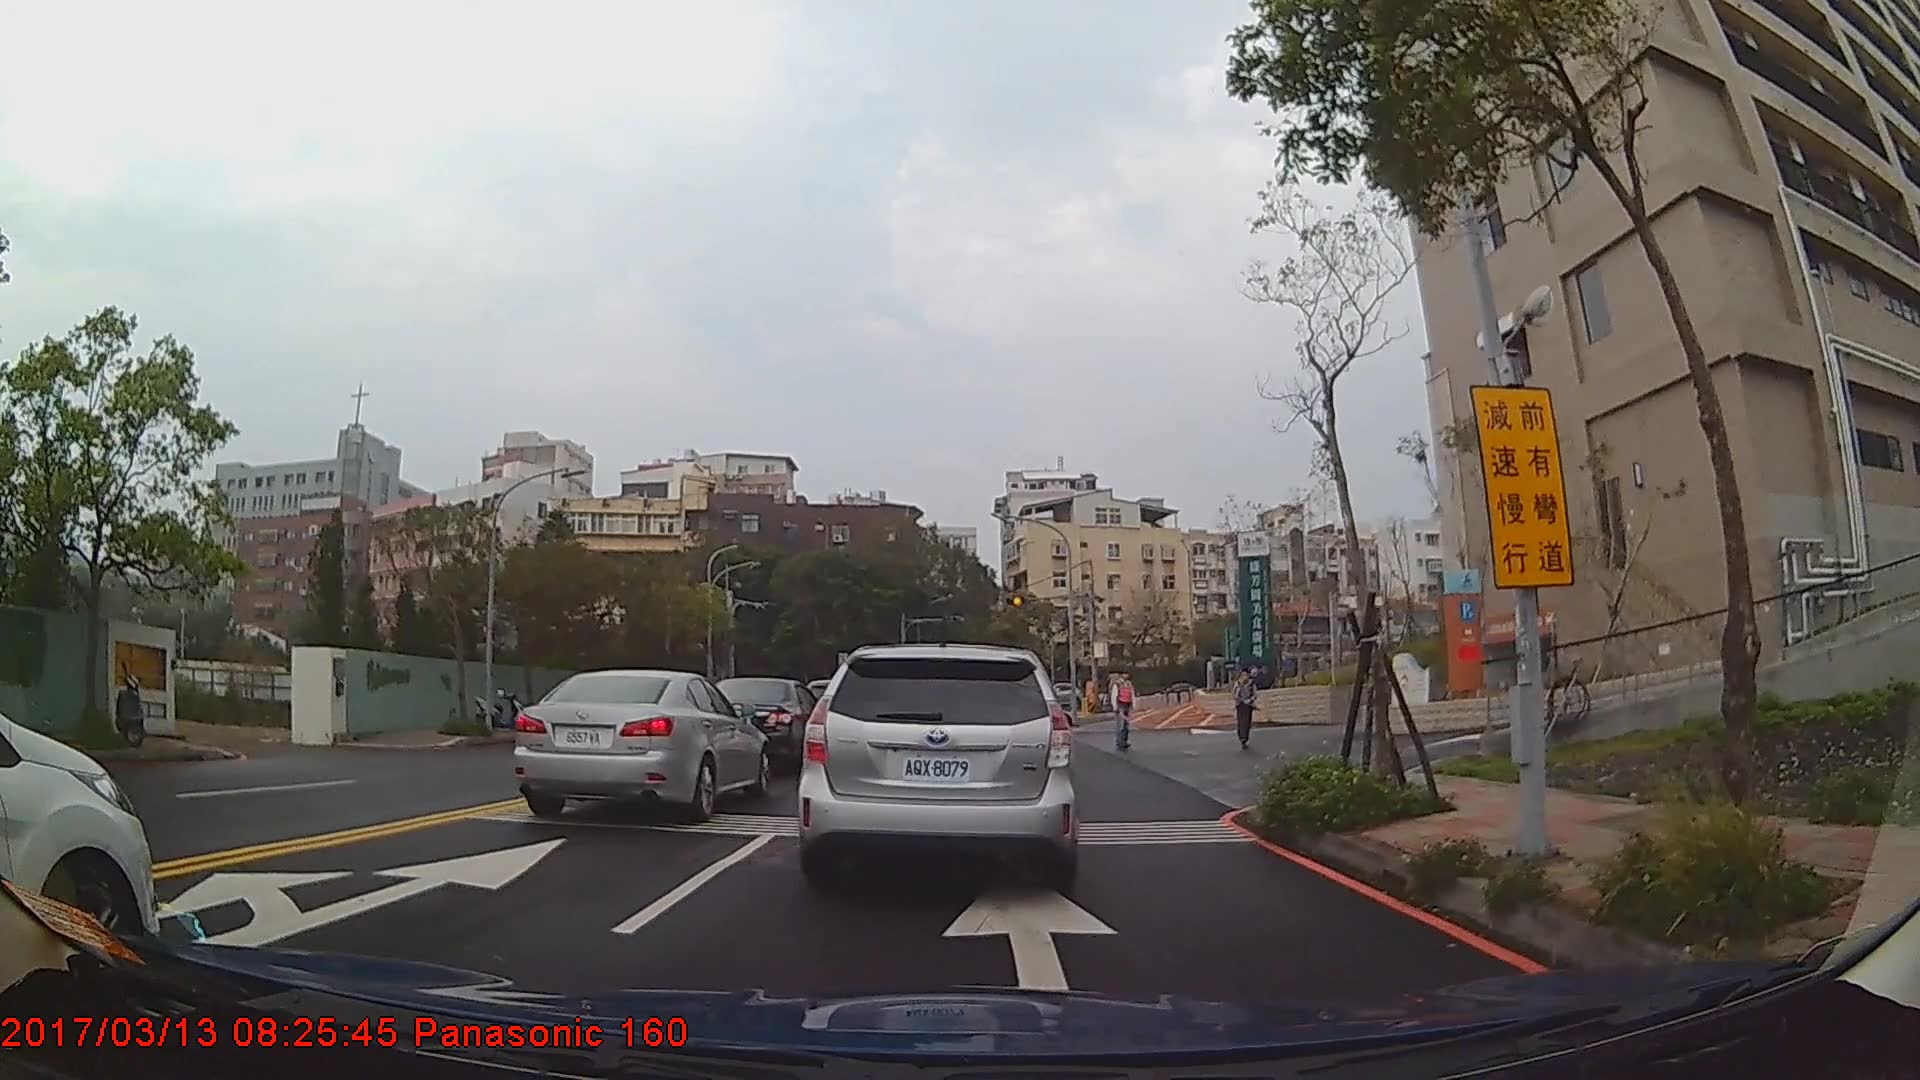pedestrian: (1107, 669, 1137, 750), (1233, 669, 1258, 751)
vehicle: (796, 641, 1079, 885), (510, 667, 769, 819), (702, 674, 821, 771)
